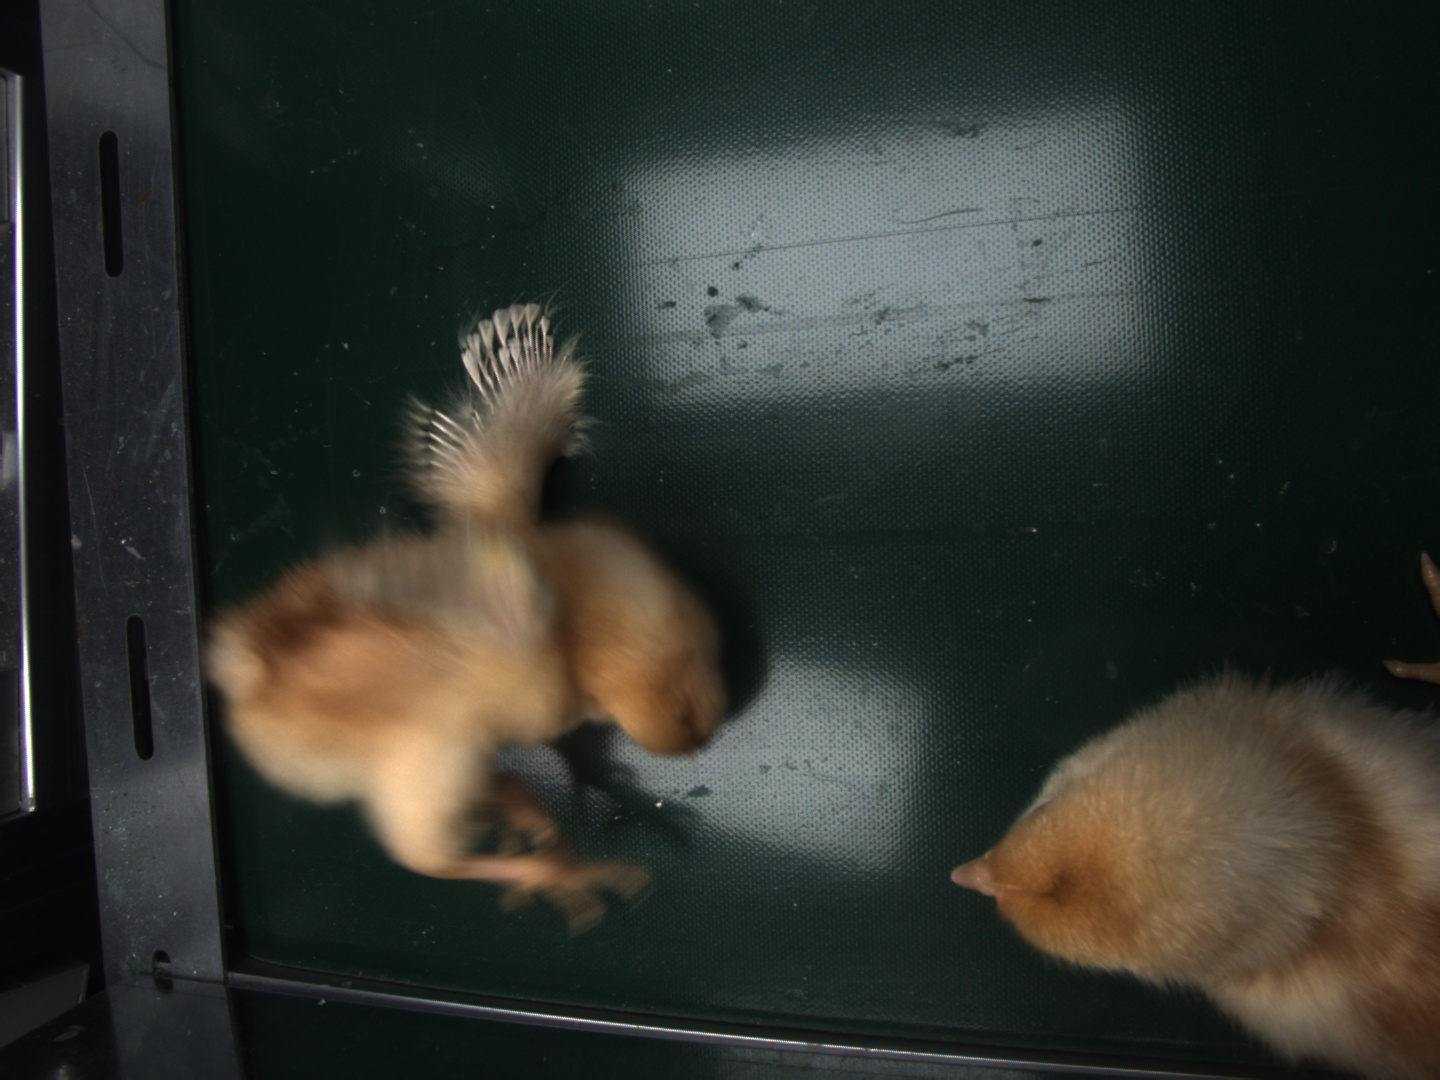female: (460, 301, 560, 399)
